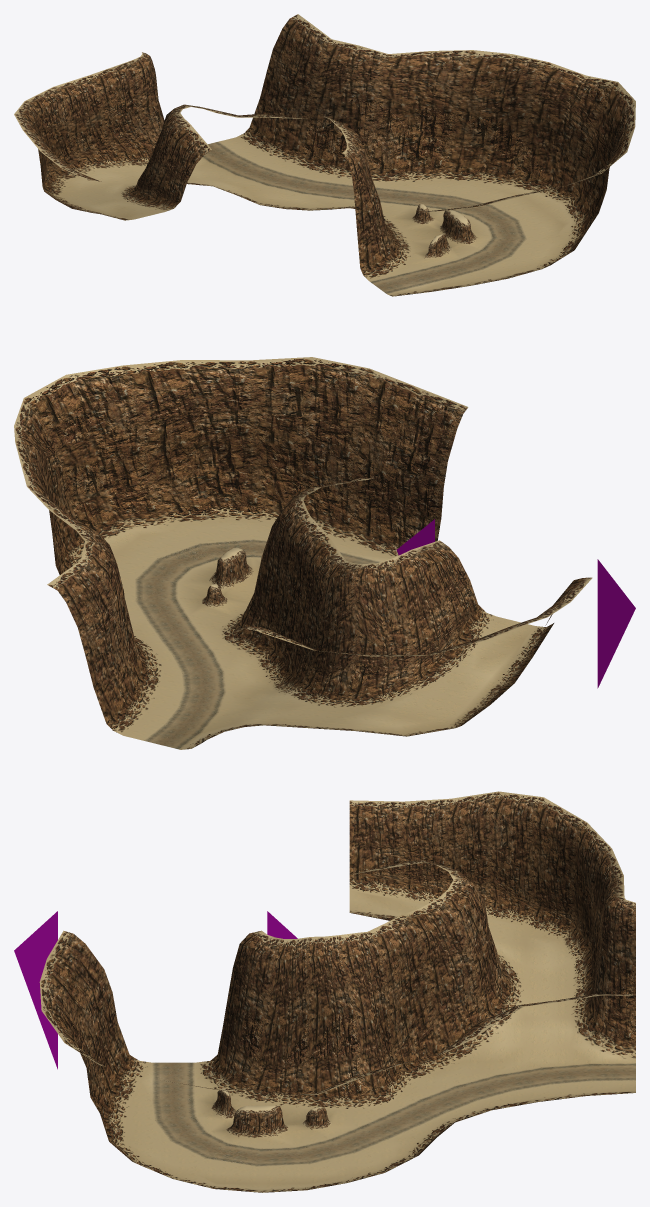
The model's file is Mission8_Zone02.glb.
3 views of the same model, one above another, from view 1: azimuth 30°, elevation 25°; view 2: azimuth 150°, elevation 25°; view 3: azimuth 270°, elevation 25° (orthographic). The views are drawn at different scales.
Visible parts, largest first — view 1: MISSION8_ZONE02067, MISSION8_ZONE02095, MISSION8_ZONE02081, MISSION8_ZONE02137, MISSION8_ZONE02109, MISSION8_ZONE02108, MISSION8_ZONE02094, MISSION8_ZONE02136, MISSION8_ZONE02132, MISSION8_ZONE02142, MISSION8_ZONE02054, MISSION8_ZONE02096 (+60 smaller); view 2: MISSION8_ZONE02009, MISSION8_ZONE02008, MISSION8_ZONE02102, MISSION8_ZONE02017, MISSION8_ZONE02018, MISSION8_ZONE02027, MISSION8_ZONE02036, MISSION8_ZONE02086, MISSION8_ZONE02006, MISSION8_ZONE02101, MISSION8_ZONE02007, MISSION8_ZONE02012 (+74 smaller); view 3: MISSION8_ZONE02048, MISSION8_ZONE02061, MISSION8_ZONE02124, MISSION8_ZONE02039, MISSION8_ZONE02089, MISSION8_ZONE02111, MISSION8_ZONE02075, MISSION8_ZONE02069, MISSION8_ZONE02098, MISSION8_ZONE02083, MISSION8_ZONE02103, MISSION8_ZONE02139 (+76 smaller).
Part boxes in pixels (x1,y1,x2,y2): MISSION8_ZONE02067: (494, 66, 580, 182); MISSION8_ZONE02095: (407, 55, 483, 176); MISSION8_ZONE02081: (455, 59, 529, 182); MISSION8_ZONE02137: (84, 60, 149, 161); MISSION8_ZONE02109: (350, 51, 428, 128); MISSION8_ZONE02108: (328, 61, 380, 180); MISSION8_ZONE02094: (371, 128, 446, 182); MISSION8_ZONE02136: (53, 75, 120, 159); MISSION8_ZONE02132: (261, 67, 316, 164); MISSION8_ZONE02142: (244, 29, 293, 148); MISSION8_ZONE02054: (515, 103, 589, 200); MISSION8_ZONE02096: (427, 50, 510, 145); MISSION8_ZONE02009: (254, 366, 314, 512); MISSION8_ZONE02008: (310, 381, 364, 525); MISSION8_ZONE02102: (322, 563, 398, 692); MISSION8_ZONE02017: (202, 408, 269, 520); MISSION8_ZONE02018: (145, 383, 254, 502); MISSION8_ZONE02027: (85, 375, 163, 508); MISSION8_ZONE02036: (65, 423, 163, 540); MISSION8_ZONE02086: (396, 550, 454, 674); MISSION8_ZONE02006: (357, 394, 462, 505); MISSION8_ZONE02101: (349, 583, 436, 704); MISSION8_ZONE02007: (312, 394, 412, 525); MISSION8_ZONE02012: (390, 461, 447, 558); MISSION8_ZONE02048: (270, 945, 333, 1091); MISSION8_ZONE02061: (308, 943, 374, 1091); MISSION8_ZONE02124: (529, 797, 598, 940); MISSION8_ZONE02039: (225, 955, 288, 1099); MISSION8_ZONE02089: (401, 909, 468, 1059); MISSION8_ZONE02111: (489, 791, 543, 909); MISSION8_ZONE02075: (359, 923, 425, 1076); MISSION8_ZONE02069: (349, 800, 403, 875); MISSION8_ZONE02098: (445, 791, 498, 898); MISSION8_ZONE02083: (401, 798, 450, 891); MISSION8_ZONE02103: (446, 880, 499, 1018); MISSION8_ZONE02139: (587, 934, 635, 1062).
Bounding box in the file's own units: 136 × 32 × 113.
Materials: 9 (8 with a texture image).
